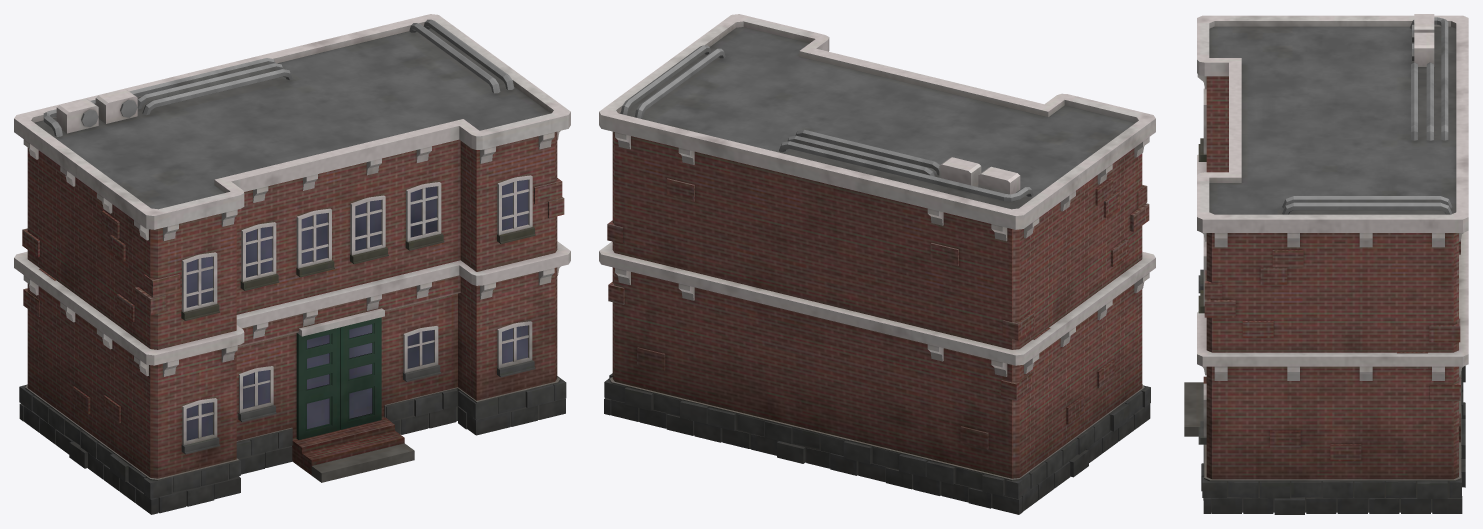
Rendered from 2Story_Wide.glb.
3 renders of one model, left to right at view 1: azimuth 30°, elevation 25°; view 2: azimuth 150°, elevation 25°; view 3: azimuth 270°, elevation 25°, orthographic.
Visible parts, largest first — view 1: 2Story_Wide_medium; view 2: 2Story_Wide_medium; view 3: 2Story_Wide_medium.
Boxes of the visible parts, box(x1,y1,x2,y2) form: 2Story_Wide_medium: box(14, 14, 570, 514); 2Story_Wide_medium: box(599, 14, 1155, 514); 2Story_Wide_medium: box(1184, 14, 1468, 514).
Size of the model in its own units: 3.83 by 2.75 by 2.26.
2 materials, 2 textured.
